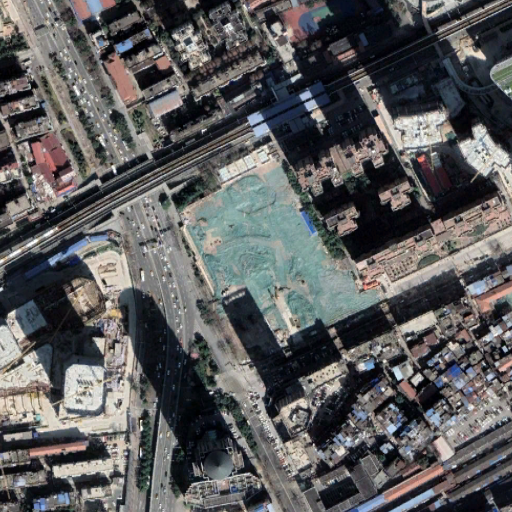cw: (178, 161, 384, 331)
